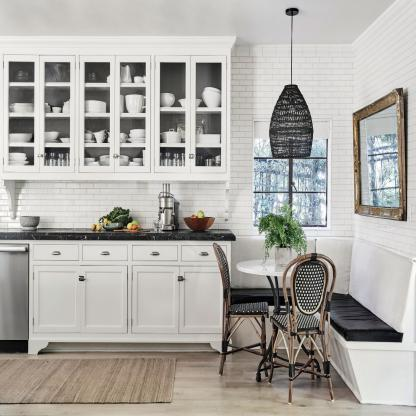chair: (270, 243, 336, 403), (204, 243, 271, 378)
light: (268, 0, 316, 164)
sofa: (322, 242, 416, 412)
